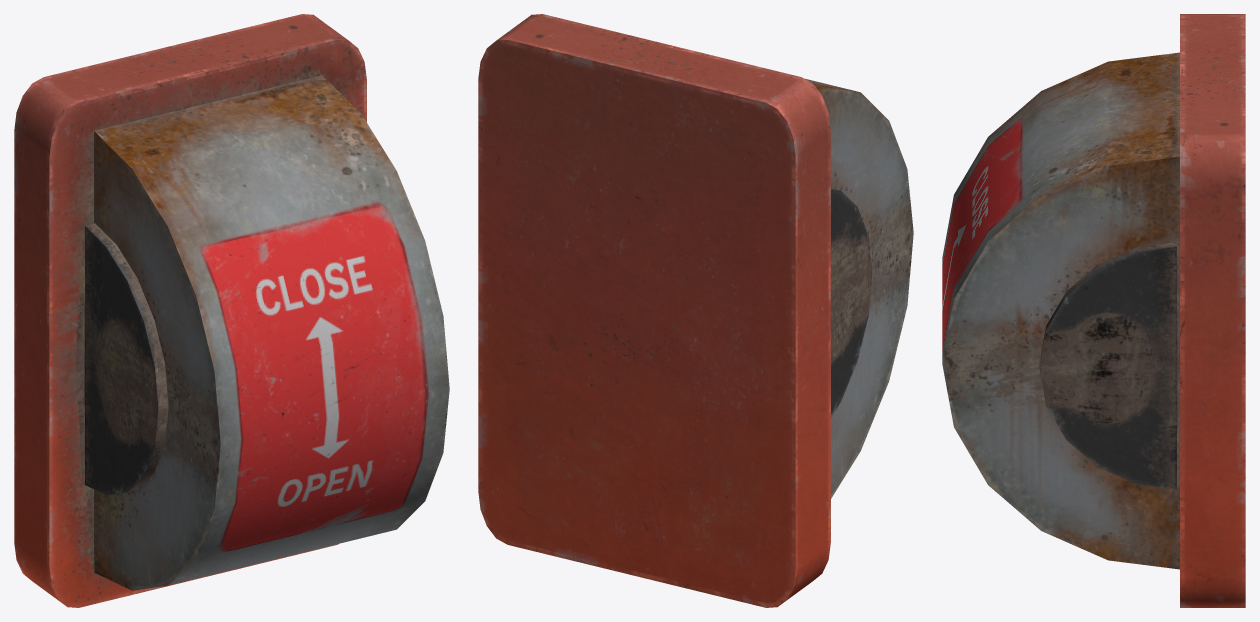
The model's file is SM_Switch_A.glb.
3 renders of one model, left to right at view 1: azimuth 30°, elevation 25°; view 2: azimuth 150°, elevation 25°; view 3: azimuth 270°, elevation 25°, orthographic. The views are drawn at different scales.
Visible parts, largest first — view 1: SM_Switch_A; view 2: SM_Switch_A; view 3: SM_Switch_A.
Boxes of the visible parts, x1,y1,x2,y2 form: SM_Switch_A: (14, 14, 449, 607); SM_Switch_A: (478, 14, 913, 607); SM_Switch_A: (942, 14, 1245, 607).
Size of the model in its own units: 0.3987 by 0.6062 by 0.3532.
Materials: 1 (1 with a texture image).
